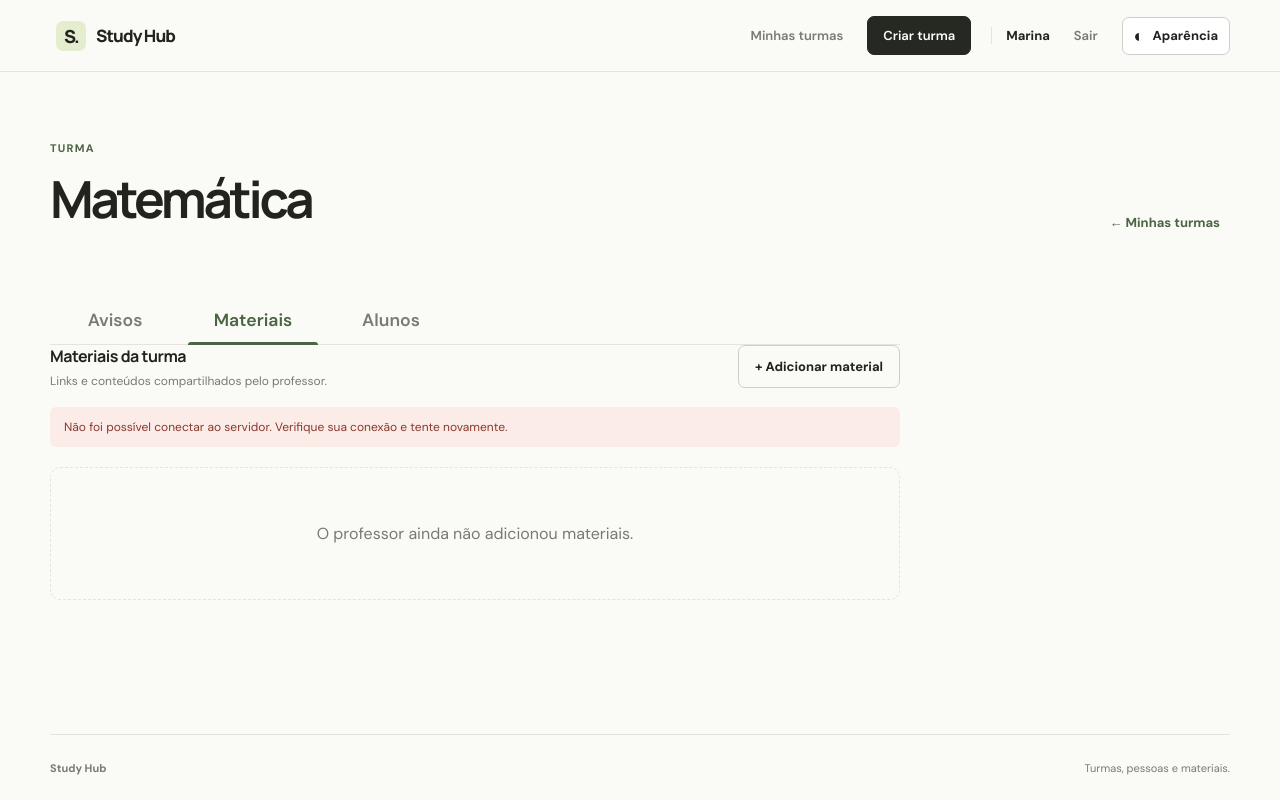
Test case: Study Hub › mostra uma mensagem amigável quando a turma não tem alunos
The image size is (1280, 800).
What coordinates should you click on to do the following:
click the tab with id "students-tab"
I would click on:
 (391, 320)
Its box is [326,296,456,344].
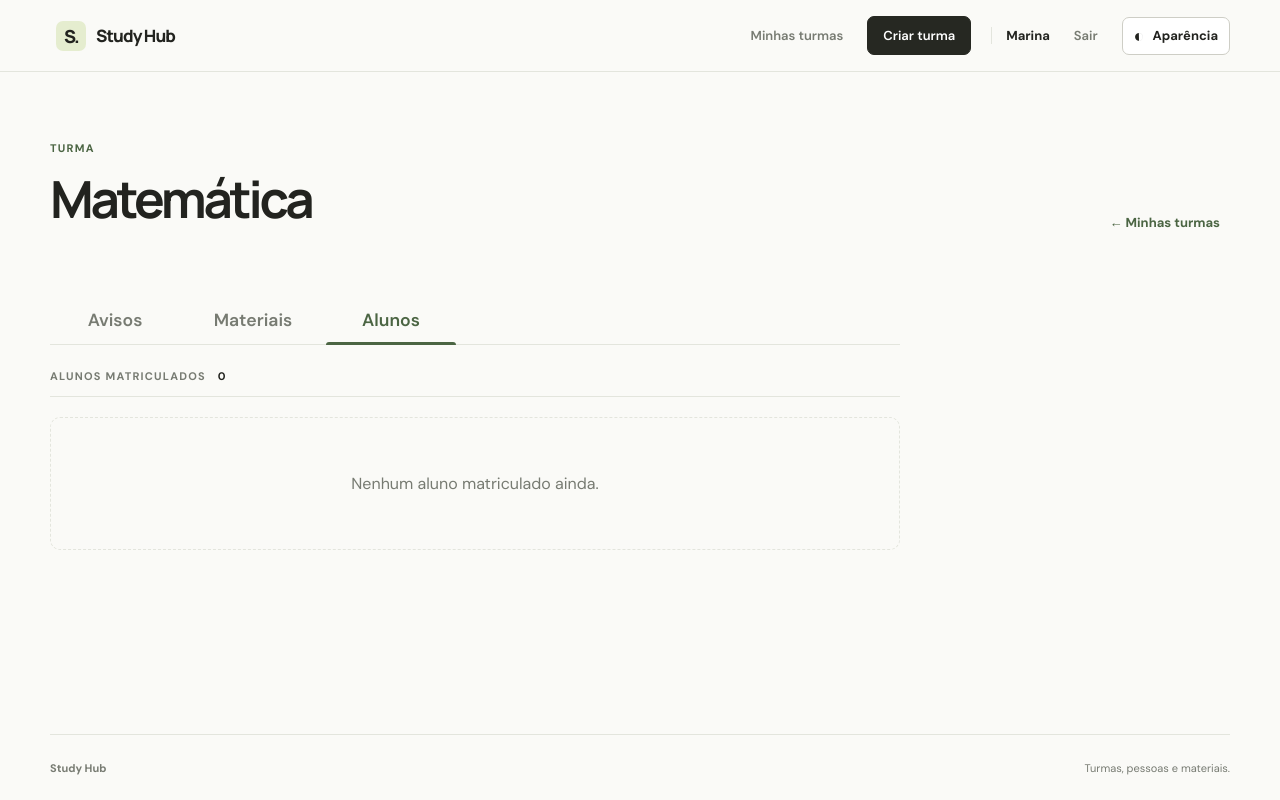
Check: the text "Nenhum aluno matriculado ainda." is shown, box [50,417,900,550]
